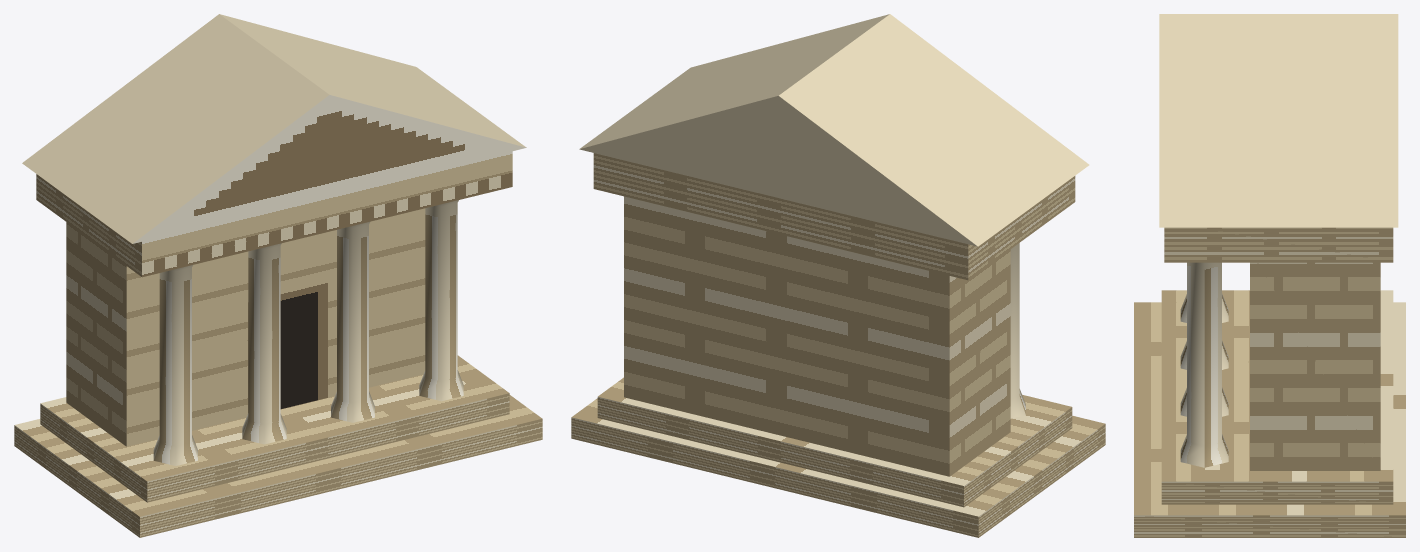
File: money-bank.glb
3 renders of one model, left to right at view 1: azimuth 30°, elevation 25°; view 2: azimuth 150°, elevation 25°; view 3: azimuth 270°, elevation 25°, orthographic. The views are drawn at different scales.
Visible parts, largest first — view 1: money.bank; view 2: money.bank; view 3: money.bank.
Boxes of the visible parts, <box> form: money.bank: <box>14,14,542,537</box>; money.bank: <box>571,14,1105,537</box>; money.bank: <box>1134,14,1405,537</box>.
Bounding box in the file's own units: 1.37 × 1.25 × 0.7402.
Materials: 6 (5 with a texture image).
